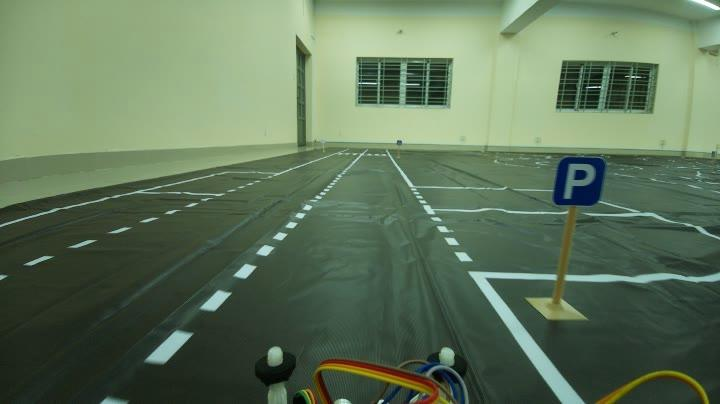parking: (545, 155, 608, 213)
